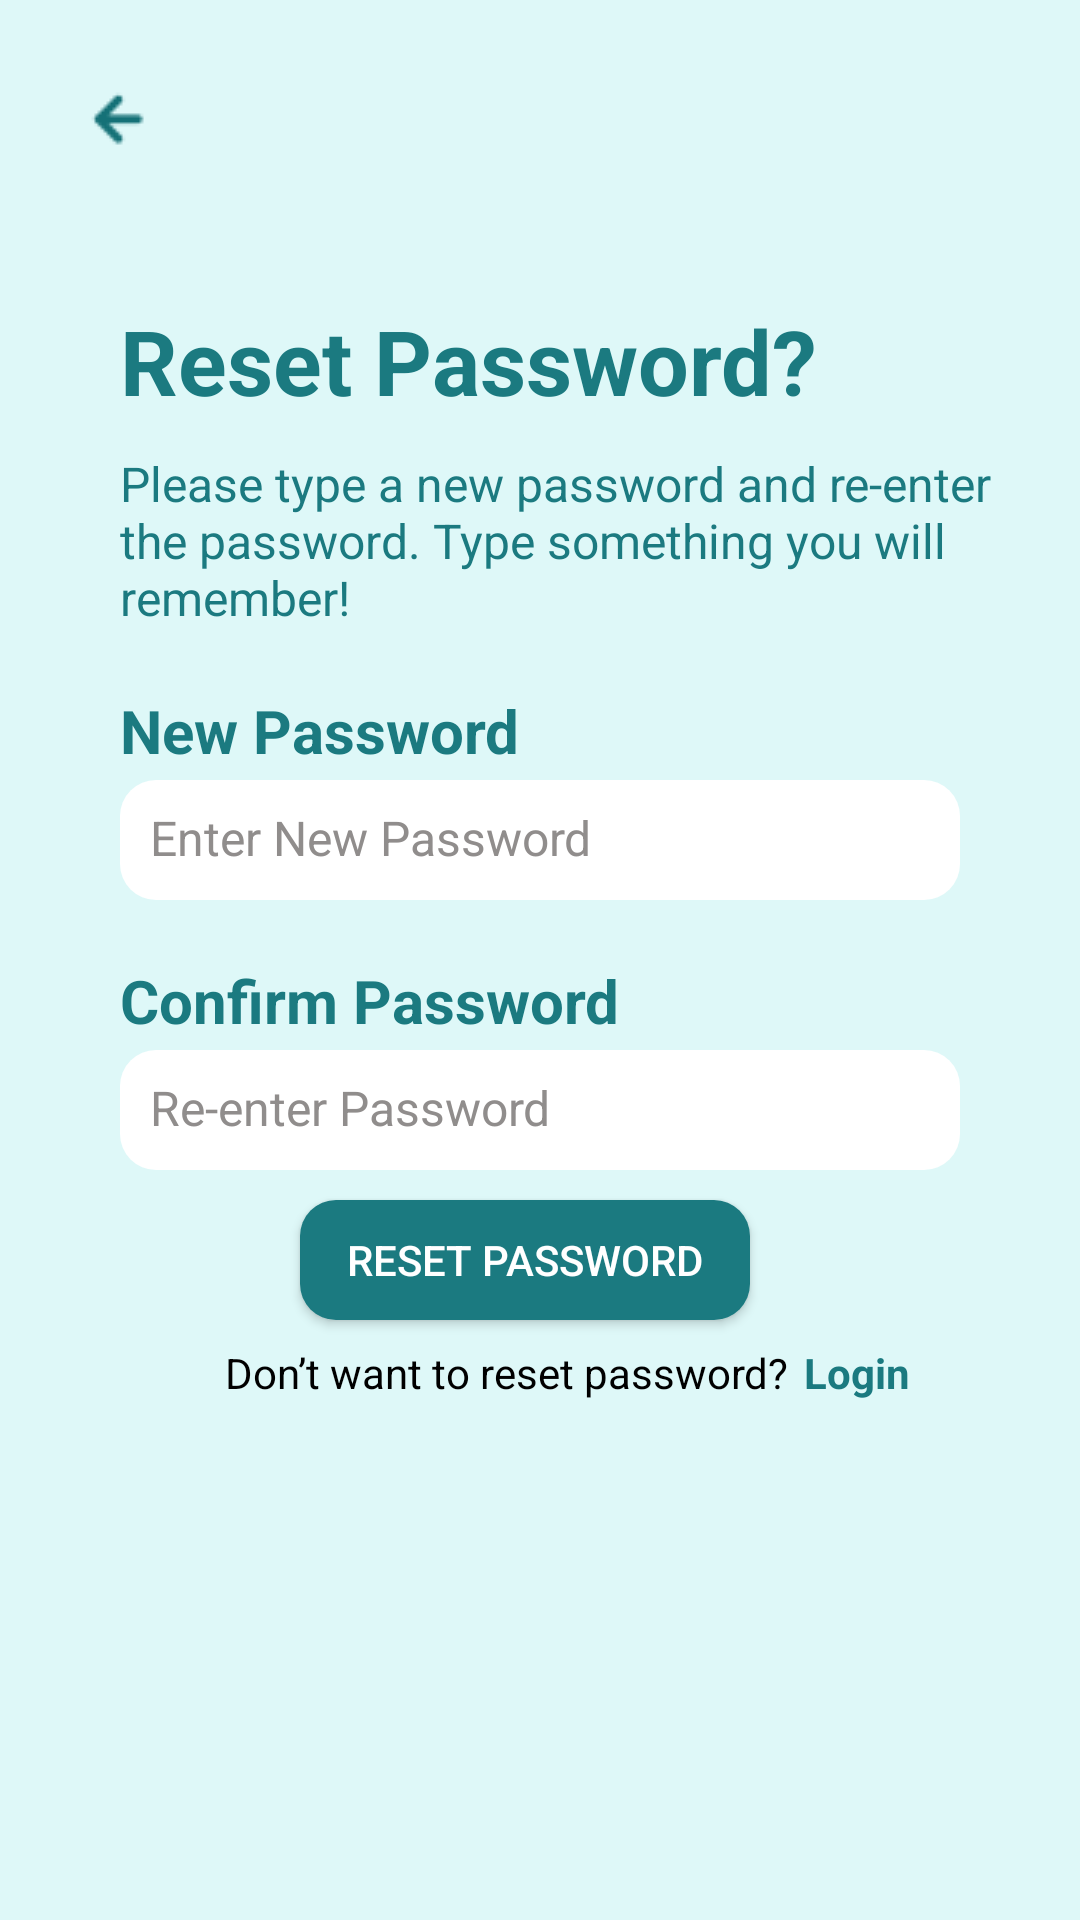

Where to tap for icons on this 1080px×1920px app screen, as point (x, y):
back: point (118, 120)
